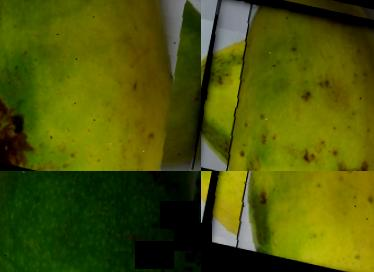PartiallyRipe: (0, 0, 201, 171)
Ripe: (201, 0, 374, 171), (201, 171, 374, 272)
Unripe: (0, 171, 201, 272)
